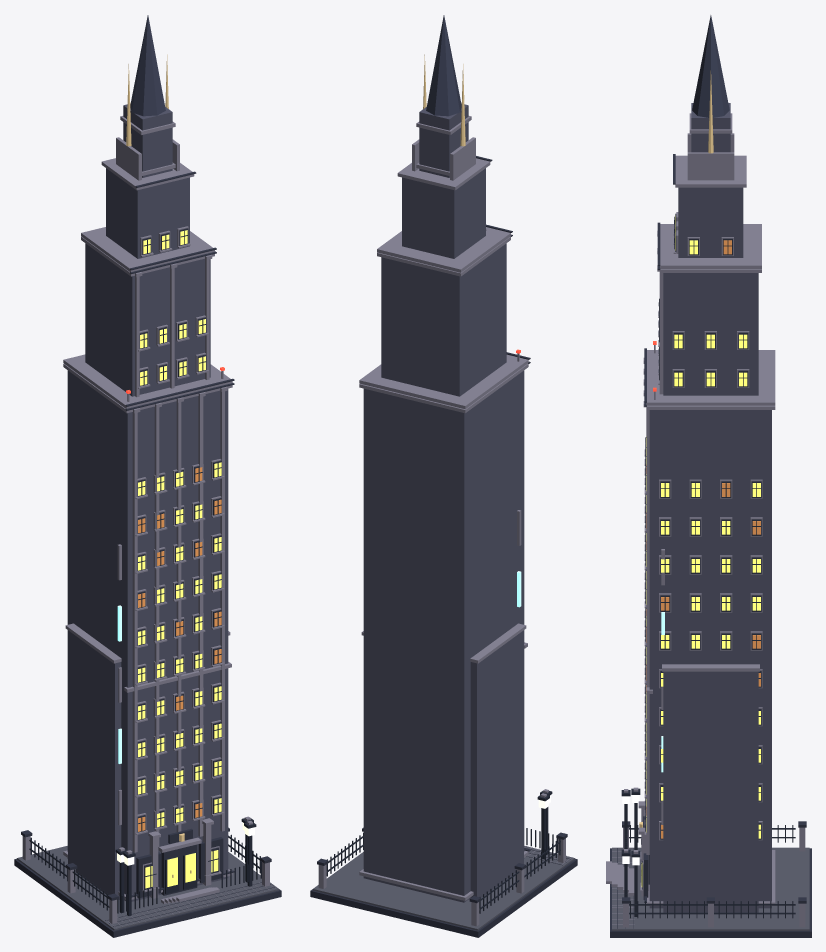
Rendered from account_building_10.glb.
3 views of the same model, side by side, from view 1: azimuth 30°, elevation 25°; view 2: azimuth 150°, elevation 25°; view 3: azimuth 270°, elevation 25° (orthographic).
Parts seen in each view (by area): view 1: SM_Account_Building_10; view 2: SM_Account_Building_10; view 3: SM_Account_Building_10.
Part boxes in pixels (left/top/right/bottom): SM_Account_Building_10: left=14, top=15, right=281, bottom=937; SM_Account_Building_10: left=310, top=15, right=577, bottom=937; SM_Account_Building_10: left=606, top=15, right=811, bottom=937.
Bounding box in the file's own units: 9.2 × 45.32 × 9.58.
